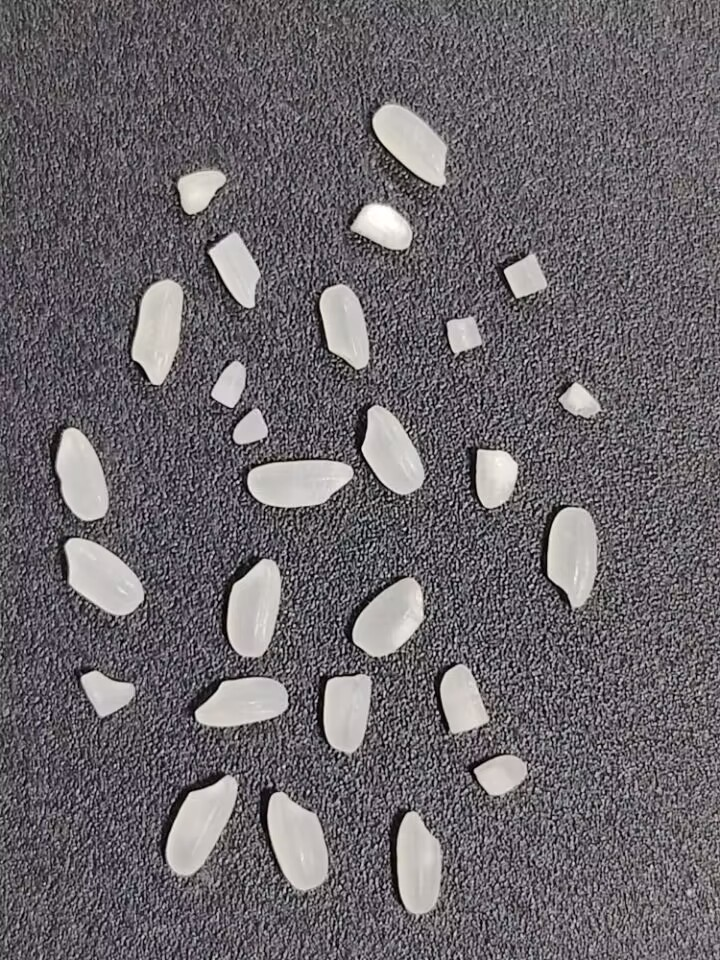broken: (202, 228, 265, 311), (345, 196, 418, 260), (74, 663, 145, 725), (322, 673, 372, 756), (437, 661, 491, 736), (169, 162, 231, 223), (467, 749, 531, 798), (473, 448, 519, 509), (553, 374, 605, 427), (206, 352, 254, 409), (501, 248, 551, 299), (227, 406, 274, 452), (441, 313, 486, 353)
rice: (163, 767, 244, 880), (261, 787, 332, 897), (56, 534, 151, 616), (221, 552, 289, 664), (127, 274, 190, 389), (351, 572, 427, 662), (372, 104, 449, 189), (50, 422, 113, 523), (194, 673, 295, 735), (361, 404, 425, 495), (546, 507, 599, 608), (245, 459, 355, 507), (395, 810, 443, 914)
